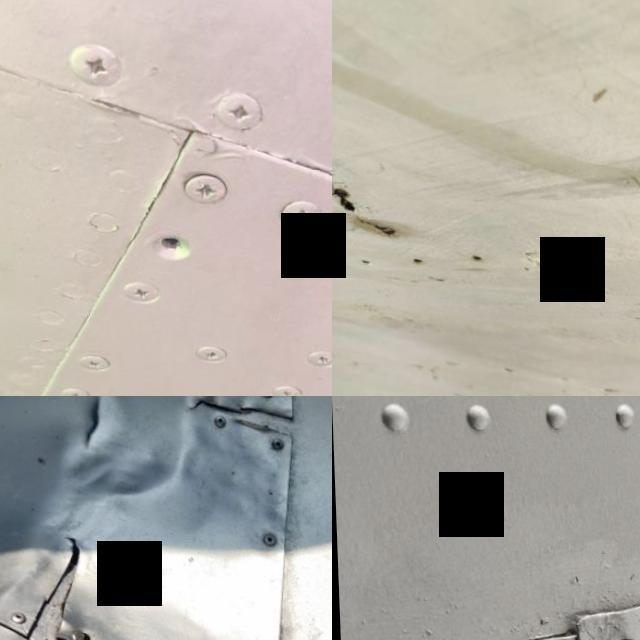Crack: (0, 516, 109, 640), (332, 123, 406, 243), (174, 396, 300, 445)
Dent: (0, 396, 212, 540)
Missing_Fastener: (119, 202, 215, 282), (538, 565, 640, 640)
